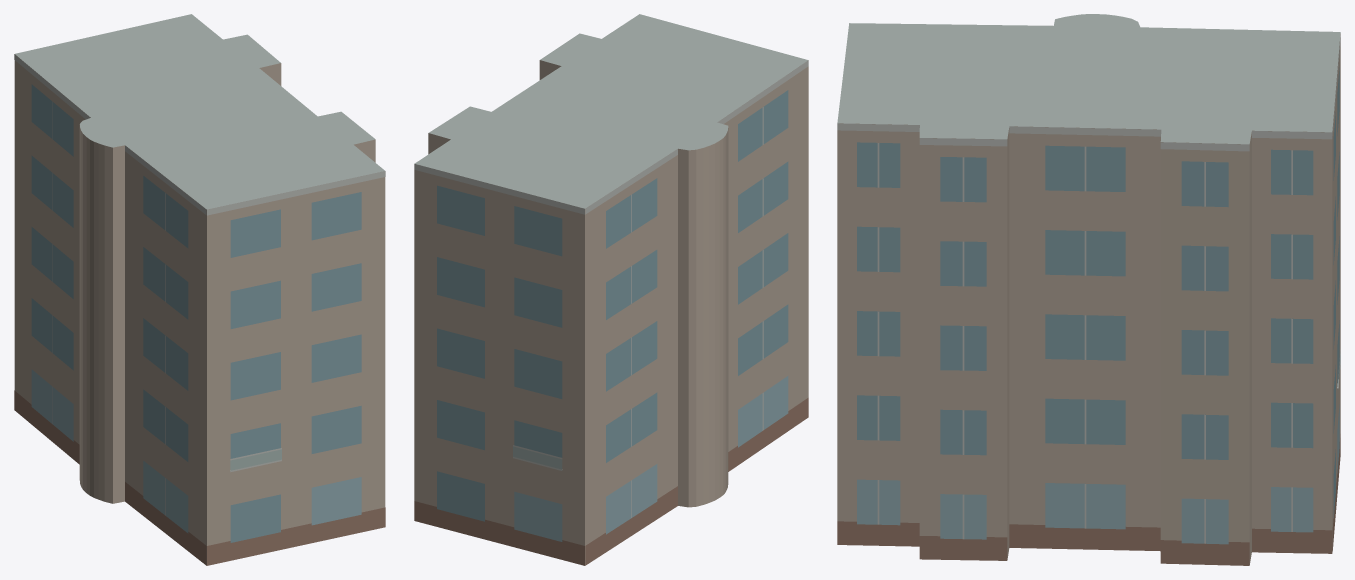
Rendered from survey-upis-32701230.glb.
3 renders of one model, left to right at view 1: azimuth 30°, elevation 25°; view 2: azimuth 150°, elevation 25°; view 3: azimuth 270°, elevation 25°, orthographic. The views are drawn at different scales.
Visible parts, largest first — view 1: survey-upis-32701230.tmp; view 2: survey-upis-32701230.tmp; view 3: survey-upis-32701230.tmp.
Part boxes in pixels (bbox=[...]): survey-upis-32701230.tmp: bbox=[14, 14, 385, 565]; survey-upis-32701230.tmp: bbox=[414, 14, 808, 565]; survey-upis-32701230.tmp: bbox=[837, 14, 1340, 565].
Size of the model in its own units: 9.63 by 14.5 by 15.7.
